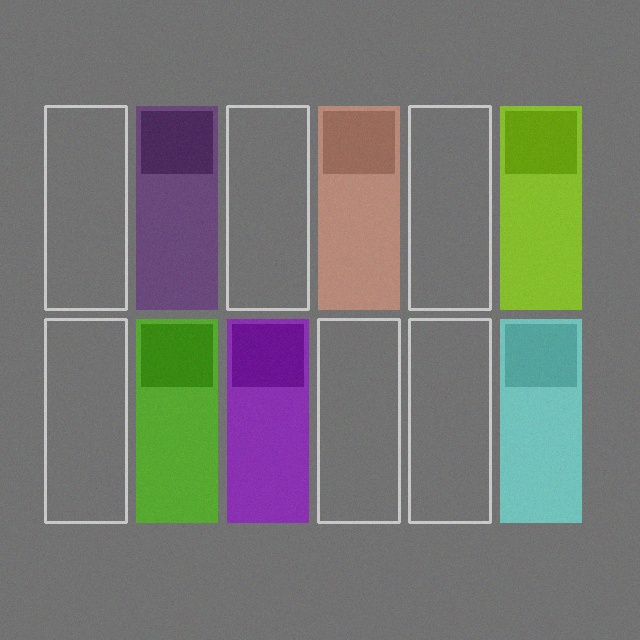space-empty: (45, 106, 126, 309), (227, 106, 308, 309), (409, 106, 490, 309), (45, 319, 126, 522), (318, 319, 399, 522), (409, 319, 490, 522)
space-occupied: (136, 106, 217, 309), (318, 106, 399, 309), (500, 106, 581, 309), (136, 319, 217, 522), (227, 319, 308, 522), (500, 319, 581, 522)
